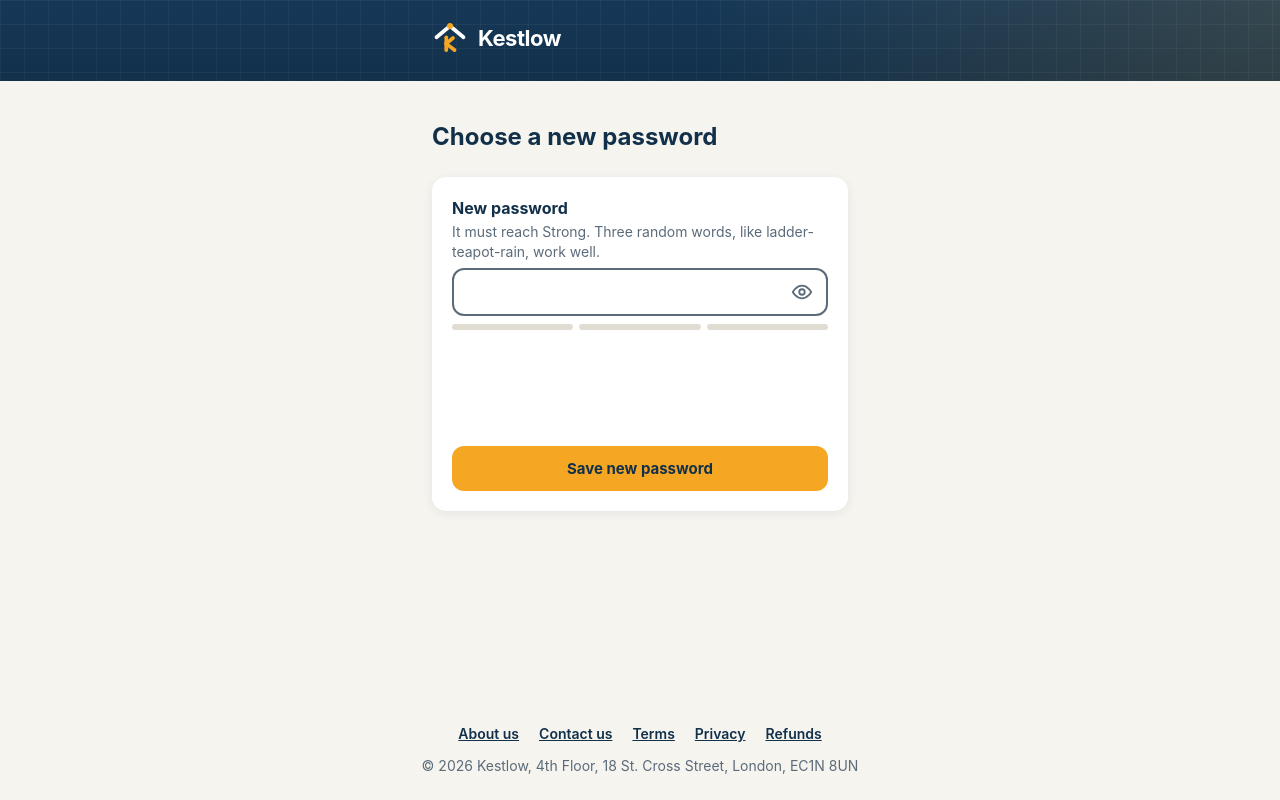
Test: ResetPasswordScreen › refuses a weak password without asking the API
The image size is (1280, 800).
Type "Password1!" into the password field labelled "New password" at (640, 292), box [452,268,828,316]
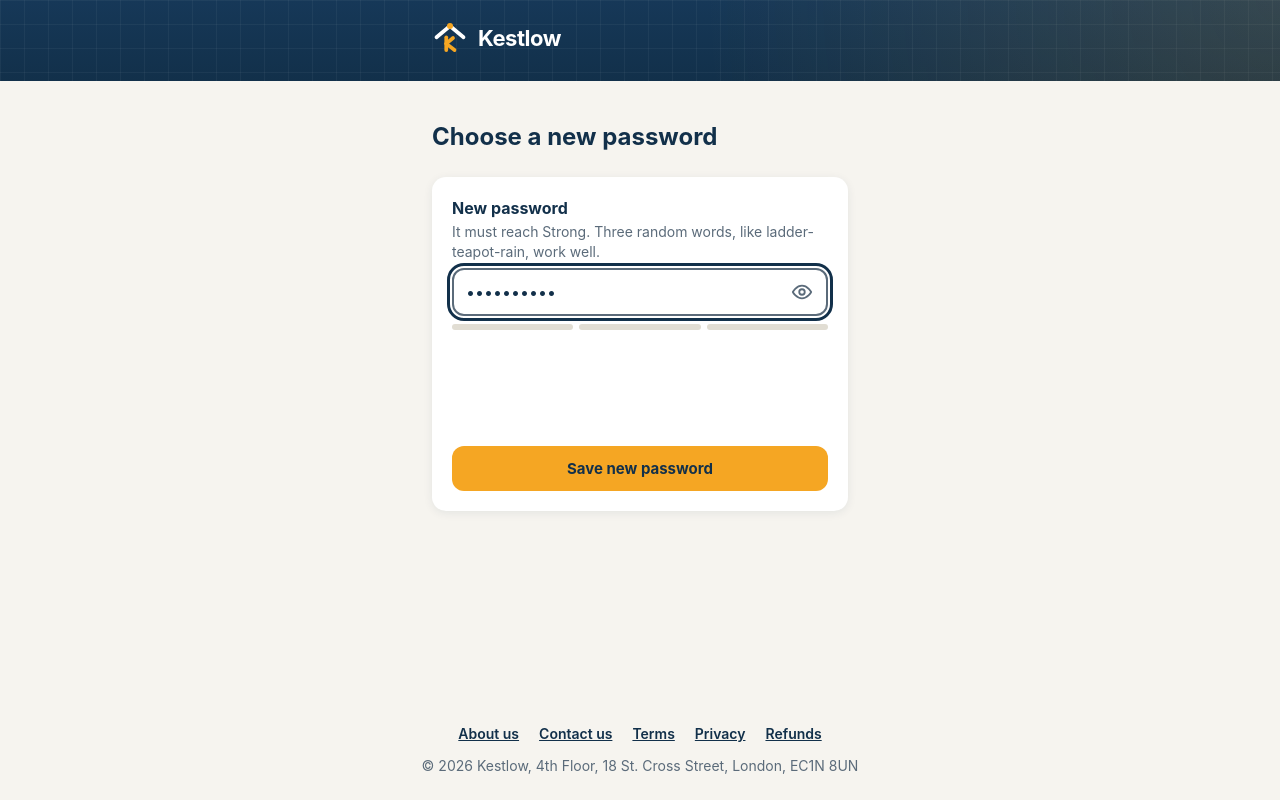
Click the button "Save new password" at (640, 468), box [452,446,828,491]
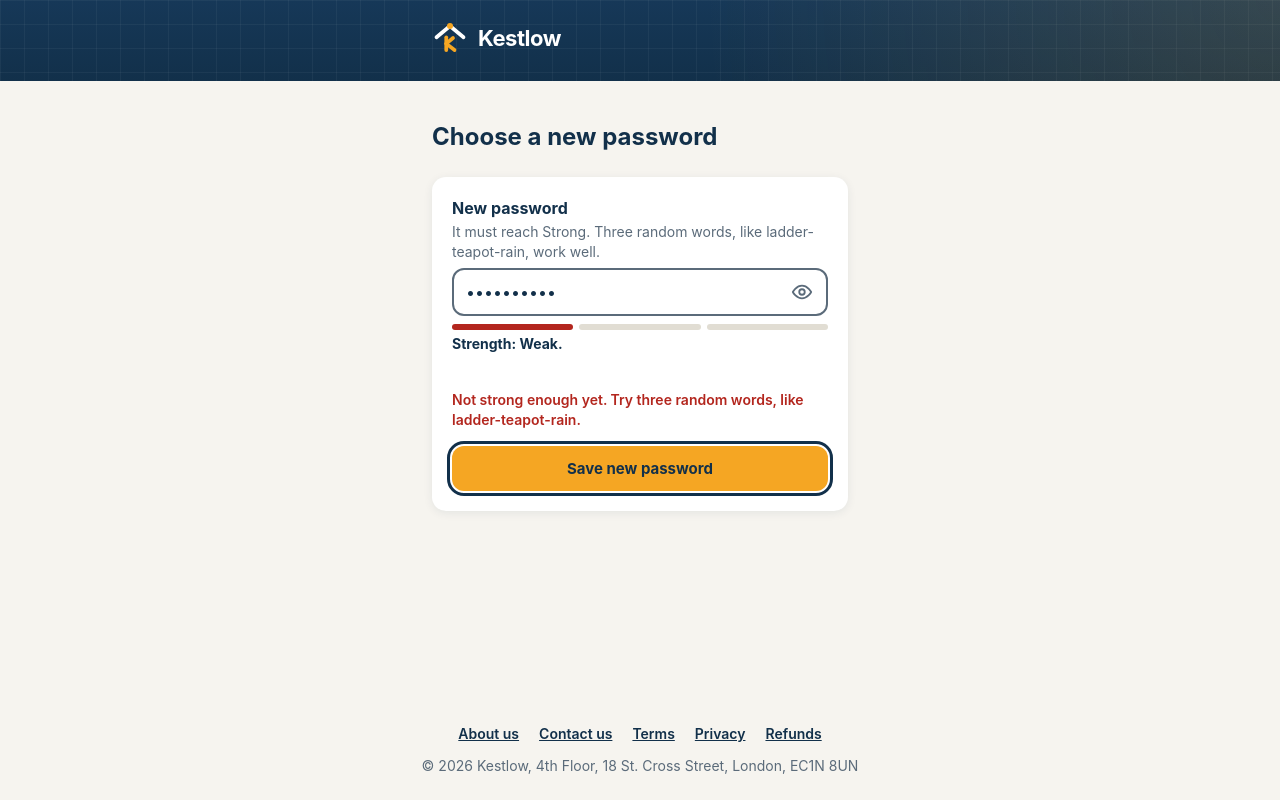
Expected: the text "Not strong enough yet. Try three random words, like ladder-teapot-rain." is shown, [452,390,828,430]
